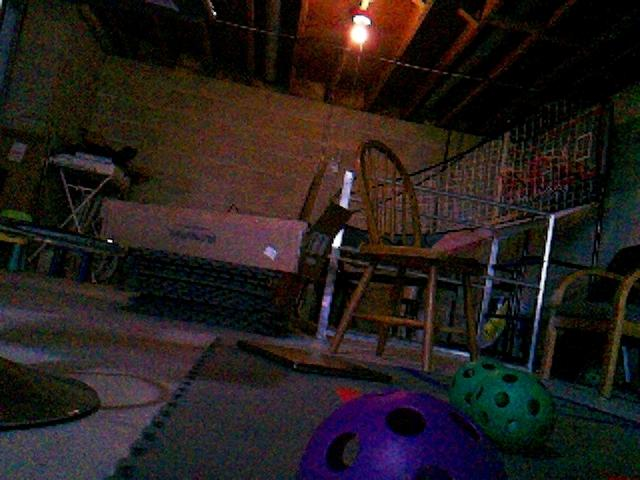Green: (474, 367, 558, 453), (449, 357, 511, 421), (580, 364, 604, 386)
Purple: (295, 387, 505, 480)
